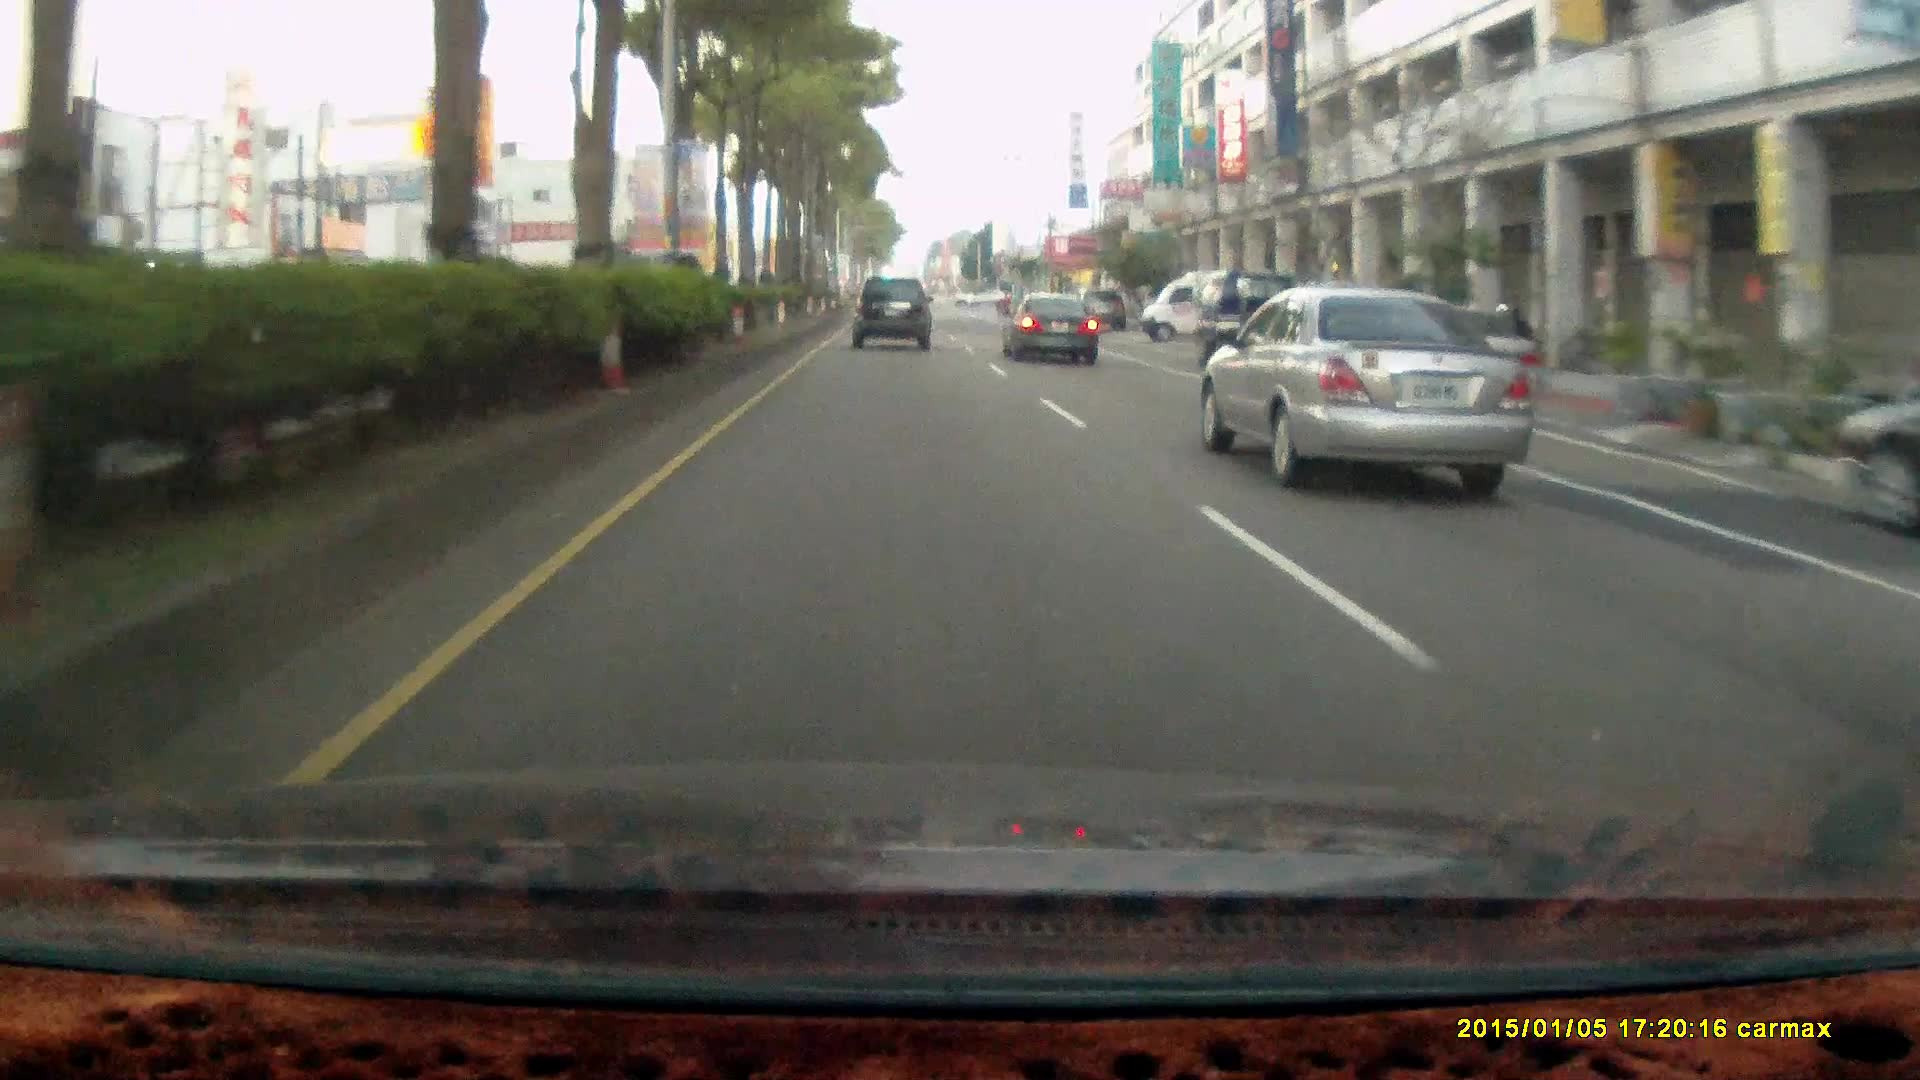vehicle: (1196, 287, 1527, 487), (1354, 307, 1542, 415), (1216, 276, 1342, 392), (1193, 272, 1317, 375), (1836, 396, 1920, 537), (1141, 269, 1280, 348), (1139, 272, 1278, 344), (1001, 295, 1102, 369), (1000, 289, 1096, 363), (851, 277, 936, 356), (849, 277, 931, 349), (1072, 287, 1127, 332)
